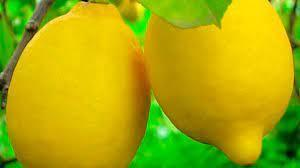lemon: (143, 0, 294, 165), (6, 1, 150, 168)
